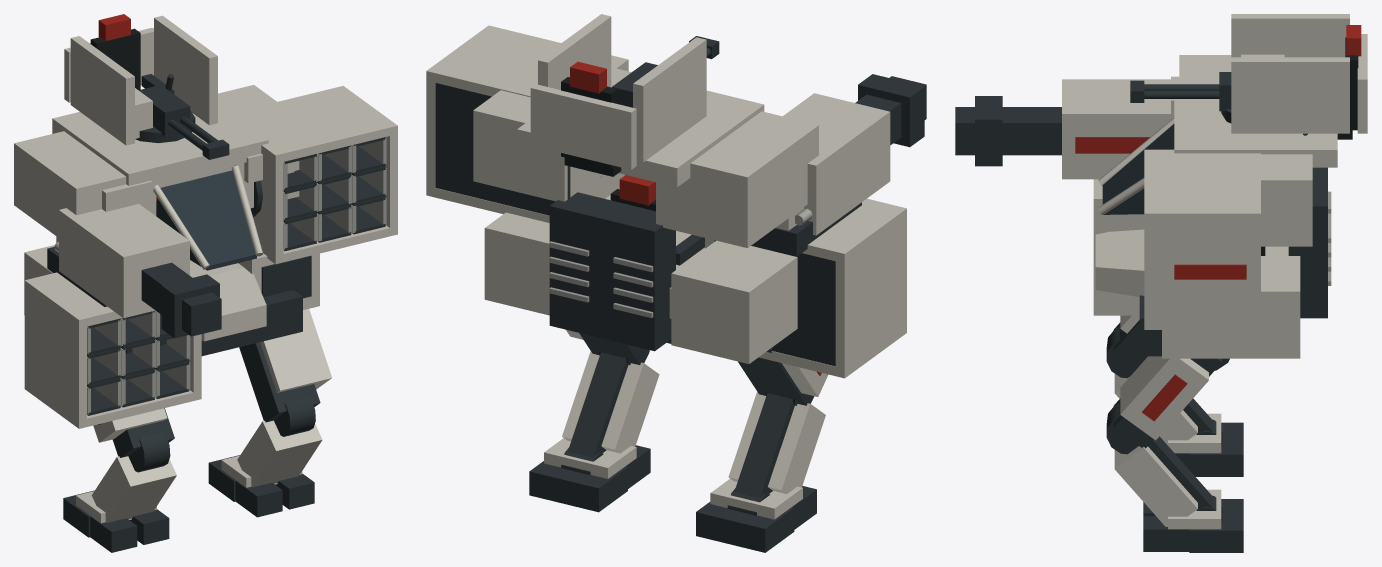
3 renders of one model, left to right at view 1: azimuth 30°, elevation 25°; view 2: azimuth 150°, elevation 25°; view 3: azimuth 270°, elevation 25°, orthographic. The views are drawn at different scales.
Visible parts, largest first — view 1: mech-torso-painted, mech-silo-right-painted, mech-silo-left-lower-painted, mech-cannon-recoil-painted, mech-mg-yaw-roof-painted, mech-hip-1-painted, mech-knee-0-painted, mech-knee-1-painted, mech-ankle-1-painted, mech-ankle-0-painted, mech-mg-pitch-roof-painted, mech-seat-gunner-painted (+2 smaller); view 2: mech-torso-painted, mech-silo-left-lower-painted, mech-mg-yaw-roof-painted, mech-silo-right-painted, mech-cannon-recoil-painted, mech-knee-1-painted, mech-knee-0-painted, mech-ankle-1-painted, mech-ankle-0-painted, mech-hip-0-painted, mech-seat-gunner-painted, mech-seat-pilot-painted (+3 smaller); view 3: mech-torso-painted, mech-silo-right-painted, mech-mg-yaw-roof-painted, mech-cannon-recoil-painted, mech-hip-1-painted, mech-knee-1-painted, mech-ankle-1-painted, mech-ankle-0-painted, mech-silo-left-lower-painted, mech-knee-0-painted, mech-mg-pitch-roof-painted, mech-seat-gunner-painted (+1 smaller).
Boxes of the visible parts, x1,y1,x2,y2 form: mech-torso-painted: [14, 85, 319, 356]; mech-silo-right-painted: [232, 86, 397, 264]; mech-silo-left-lower-painted: [24, 272, 201, 428]; mech-cannon-recoil-painted: [56, 204, 221, 338]; mech-mg-yaw-roof-painted: [64, 15, 217, 145]; mech-hip-1-painted: [239, 309, 331, 422]; mech-knee-0-painted: [91, 432, 176, 522]; mech-knee-1-painted: [237, 396, 322, 487]; mech-ankle-1-painted: [208, 455, 314, 517]; mech-ankle-0-painted: [63, 490, 169, 552]; mech-mg-pitch-roof-painted: [135, 85, 229, 159]; mech-seat-gunner-painted: [90, 14, 174, 94]; mech-torso-painted: [473, 67, 818, 363]; mech-silo-left-lower-painted: [705, 198, 906, 378]; mech-mg-yaw-roof-painted: [530, 14, 706, 169]; mech-silo-right-painted: [426, 25, 628, 222]; mech-cannon-recoil-painted: [776, 74, 926, 235]; mech-knee-1-painted: [562, 350, 659, 457]; mech-knee-0-painted: [728, 391, 825, 498]; mech-ankle-1-painted: [529, 438, 650, 512]; mech-ankle-0-painted: [696, 478, 816, 552]; mech-hip-0-painted: [738, 347, 828, 405]; mech-seat-gunner-painted: [561, 61, 621, 176]; mech-seat-pilot-painted: [610, 175, 704, 265]; mech-torso-painted: [1095, 55, 1337, 358]; mech-silo-right-painted: [1144, 149, 1260, 329]; mech-mg-yaw-roof-painted: [1221, 14, 1367, 133]; mech-cannon-recoil-painted: [955, 79, 1170, 179]; mech-hip-1-painted: [1113, 356, 1229, 448]; mech-knee-1-painted: [1106, 403, 1212, 526]; mech-ankle-1-painted: [1143, 489, 1243, 552]; mech-ankle-0-painted: [1168, 413, 1243, 476]; mech-silo-left-lower-painted: [1093, 179, 1144, 315]; mech-knee-0-painted: [1106, 327, 1212, 445]; mech-mg-pitch-roof-painted: [1130, 54, 1284, 111]; mech-seat-gunner-painted: [1337, 25, 1361, 139].
Size of the model in its own units: 25.14 by 30.53 by 24.41.
